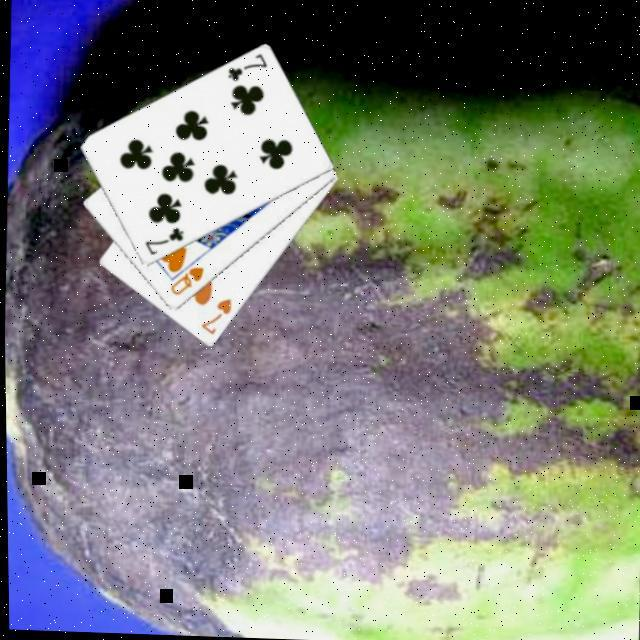7C: (225, 51, 272, 87), (142, 225, 188, 261)
7H: (198, 296, 235, 340)
QH: (168, 264, 208, 300)
